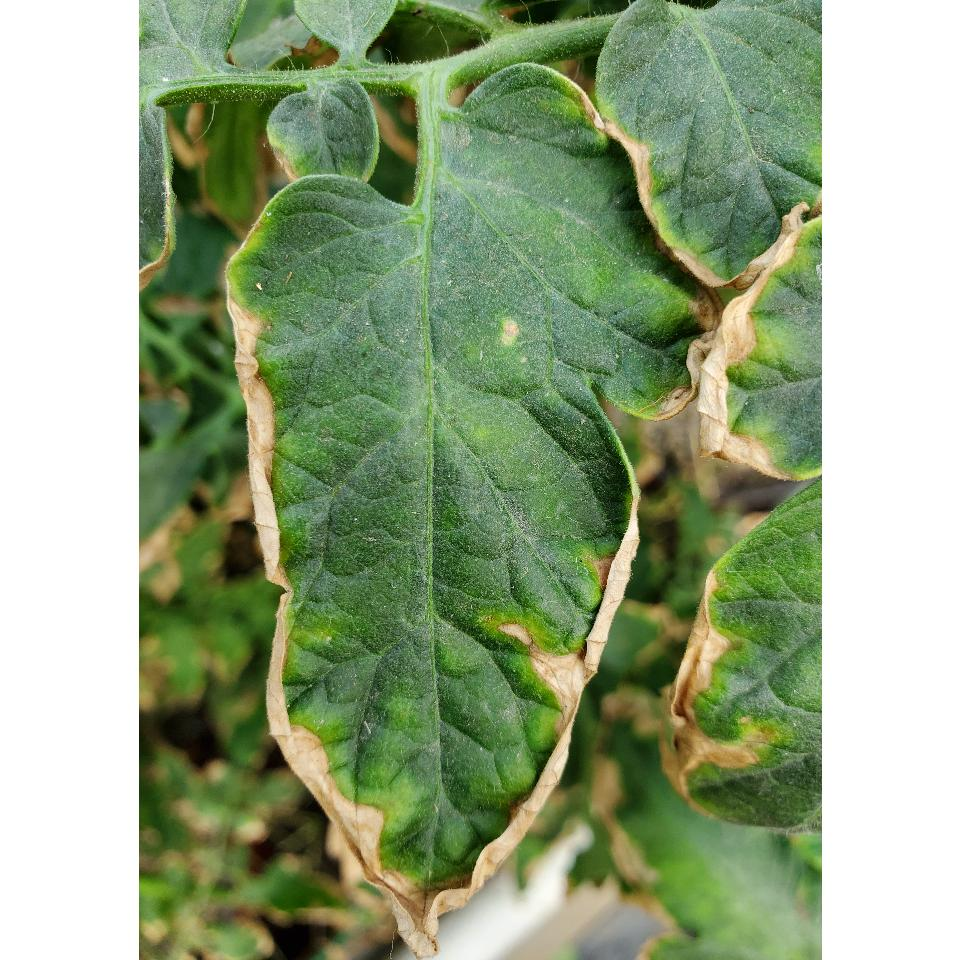tomato_bacterial_blight: (218, 179, 650, 957), (661, 472, 815, 840), (681, 208, 821, 502)
